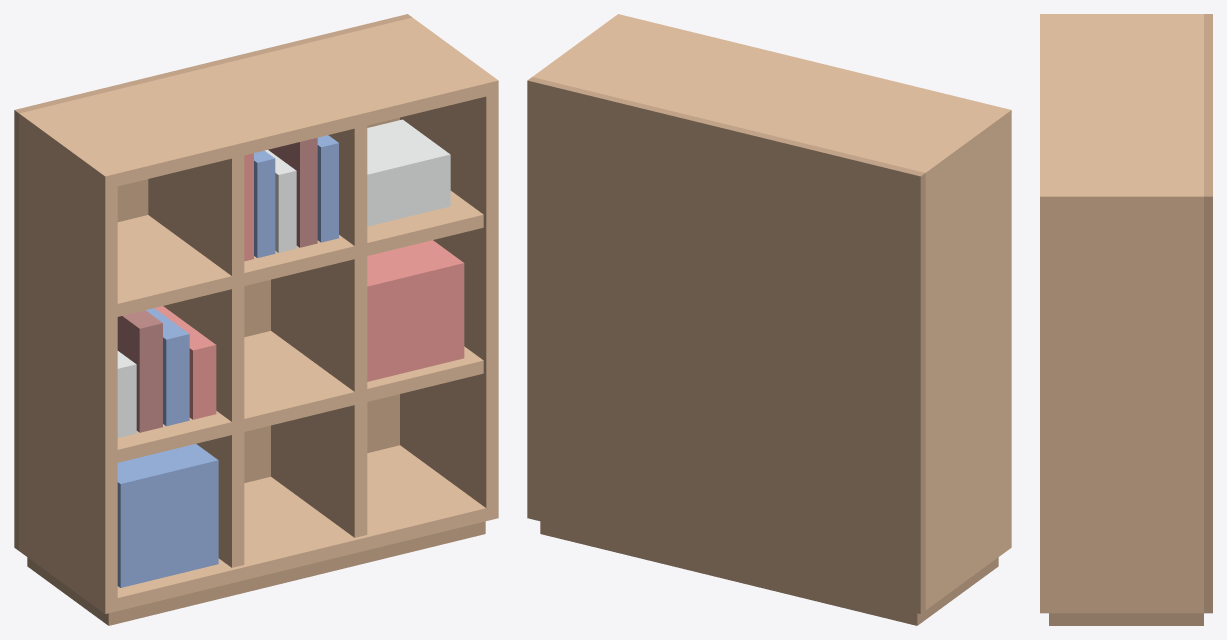
Rendered from bookcaseCube.glb.
3 views of the same model, side by side, from view 1: azimuth 30°, elevation 25°; view 2: azimuth 150°, elevation 25°; view 3: azimuth 270°, elevation 25° (orthographic). The views are drawn at different scales.
Parts seen in each view (by area): view 1: bookcaseCube; view 2: bookcaseCube; view 3: bookcaseCube.
Boxes of the visible parts, x1,y1,x2,y2 form: bookcaseCube: [14, 14, 498, 625]; bookcaseCube: [527, 14, 1011, 625]; bookcaseCube: [1040, 14, 1212, 625].
Size of the model in its own units: 0.475 by 0.525 by 0.19.
